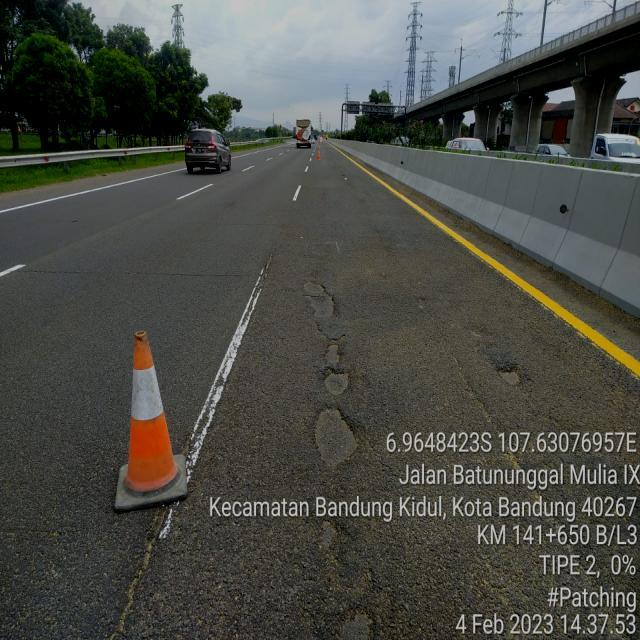Buraco: (308, 401, 366, 477), (310, 516, 359, 572), (316, 332, 355, 399), (329, 602, 380, 640), (296, 278, 341, 321), (492, 360, 526, 389)
